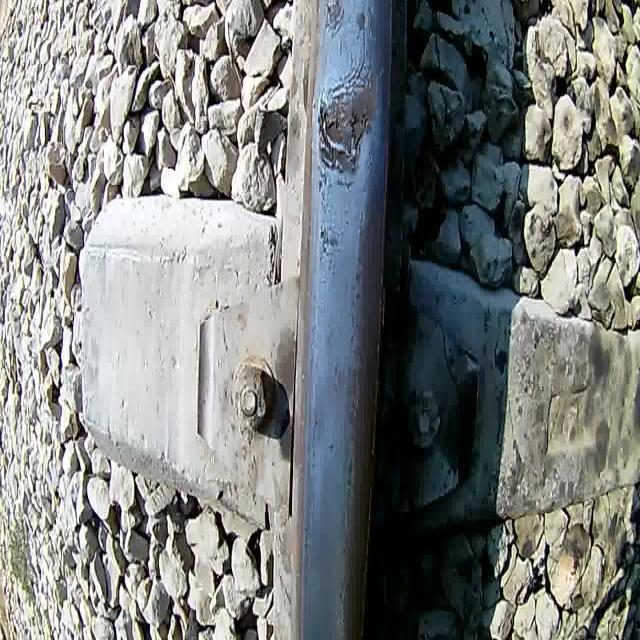Cracks: (315, 23, 386, 106), (316, 81, 338, 178), (345, 105, 373, 178)
Squats: (310, 66, 388, 210), (314, 222, 348, 266), (320, 0, 348, 44), (351, 5, 370, 38)
